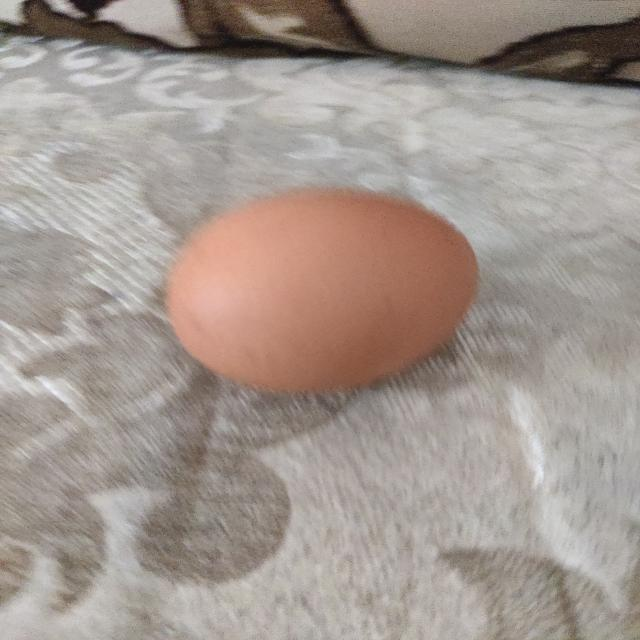egg: (152, 188, 488, 400)
